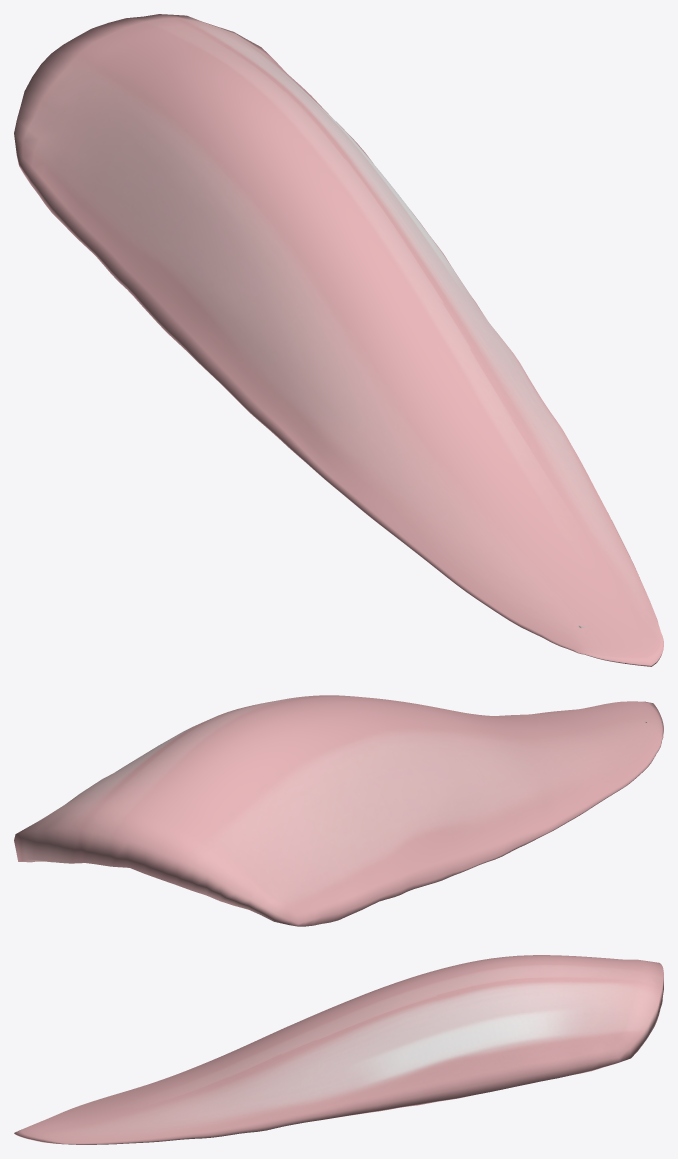
File: Shape key curved nail .fbx
3 renders of one model, top to bottom at view 1: azimuth 30°, elevation 25°; view 2: azimuth 150°, elevation 25°; view 3: azimuth 270°, elevation 25°, orthographic. The views are drawn at different scales.
Visible parts, largest first — view 1: 1 curved acrylic nail; view 2: 1 curved acrylic nail; view 3: 1 curved acrylic nail.
Part boxes in pixels (x1,y1,x2,y2): 1 curved acrylic nail: (14,14,663,666); 1 curved acrylic nail: (14,695,663,926); 1 curved acrylic nail: (14,955,663,1144).
Bounding box in the file's own units: 79.02 × 75.5 × 257.
1 material, 1 textured.
